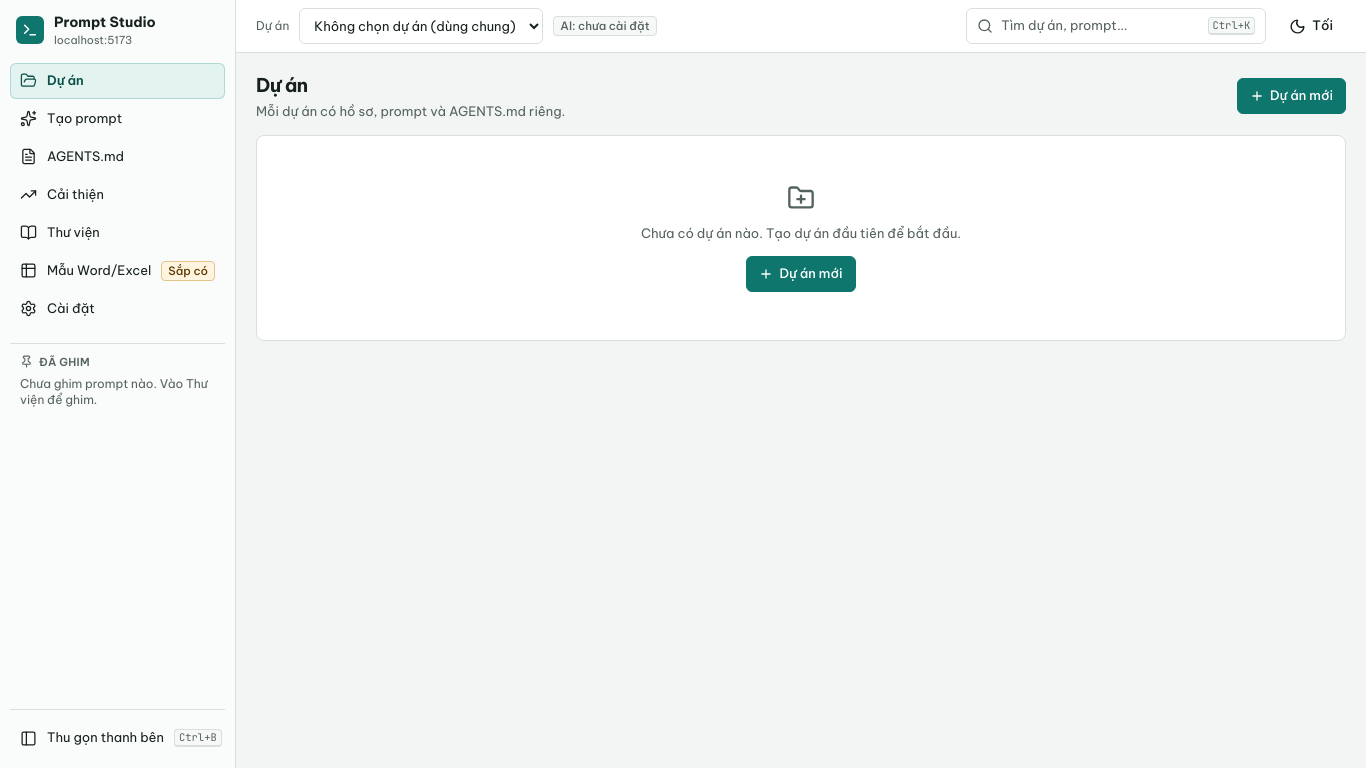
Tìm nhanh (Ctrl+K) › tìm prompt đã lưu có biến → Enter mở Điền nhanh; prompt không biến thì copy ngay
Later steps or results of the test are not shown.
Type keys "{Control>}k{/Control}"
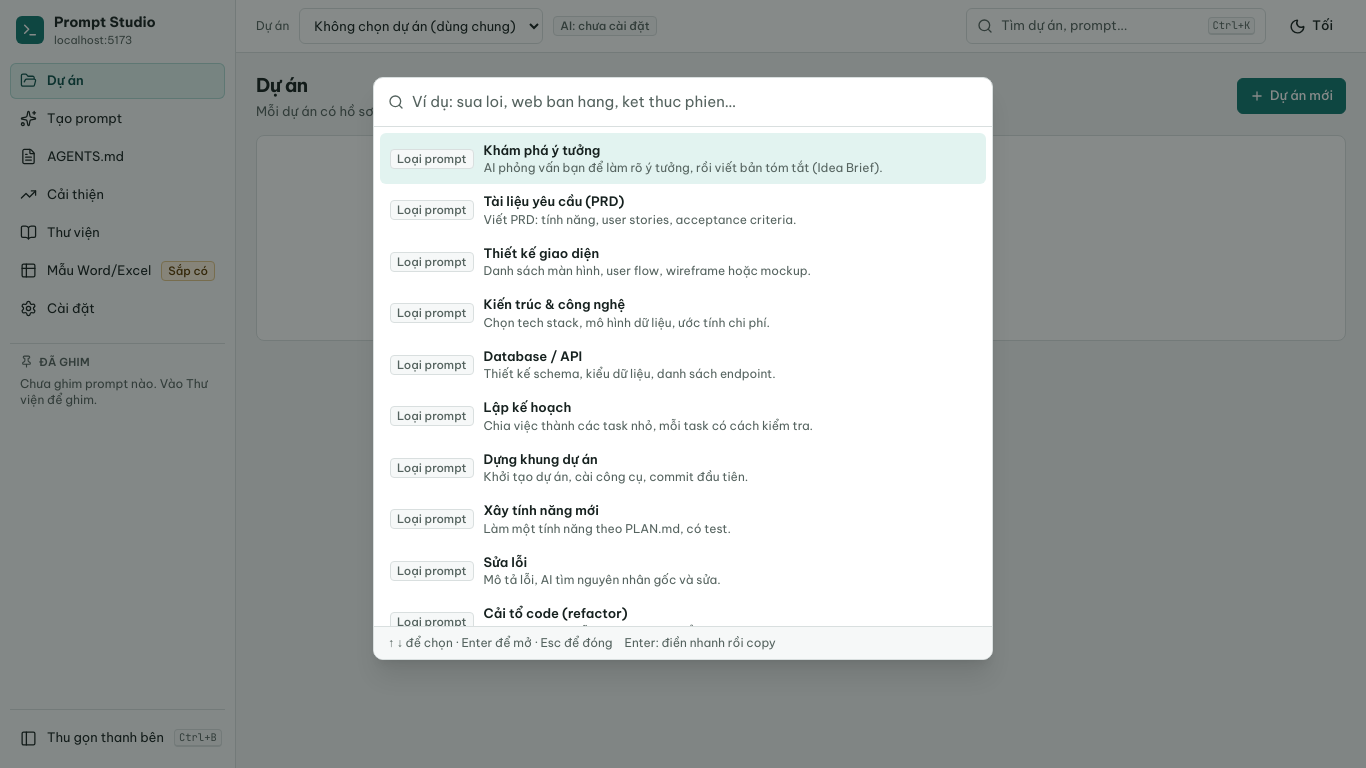
In the dropdown named "Từ khóa tìm kiếm": {"x": 695, "y": 102} [412, 78, 978, 126], type "bao loi nhanh"
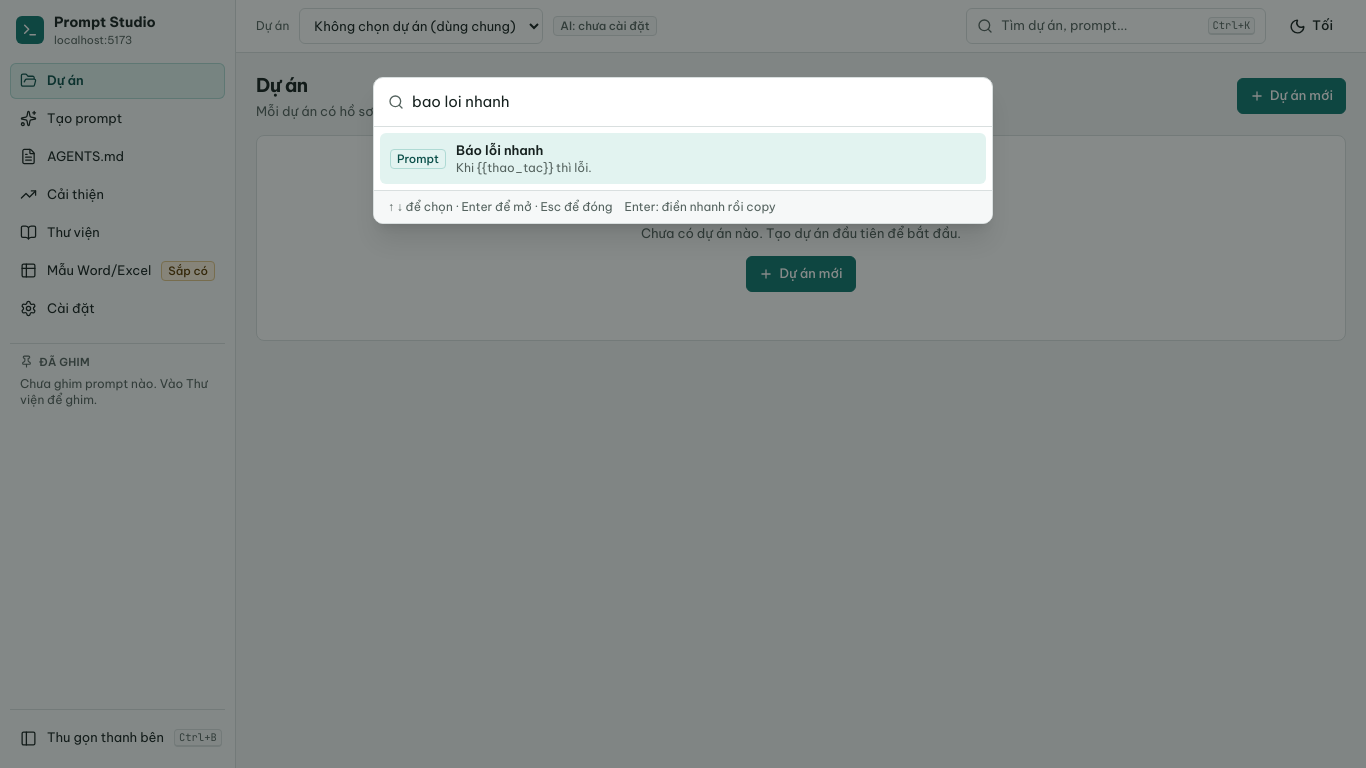
Press Enter
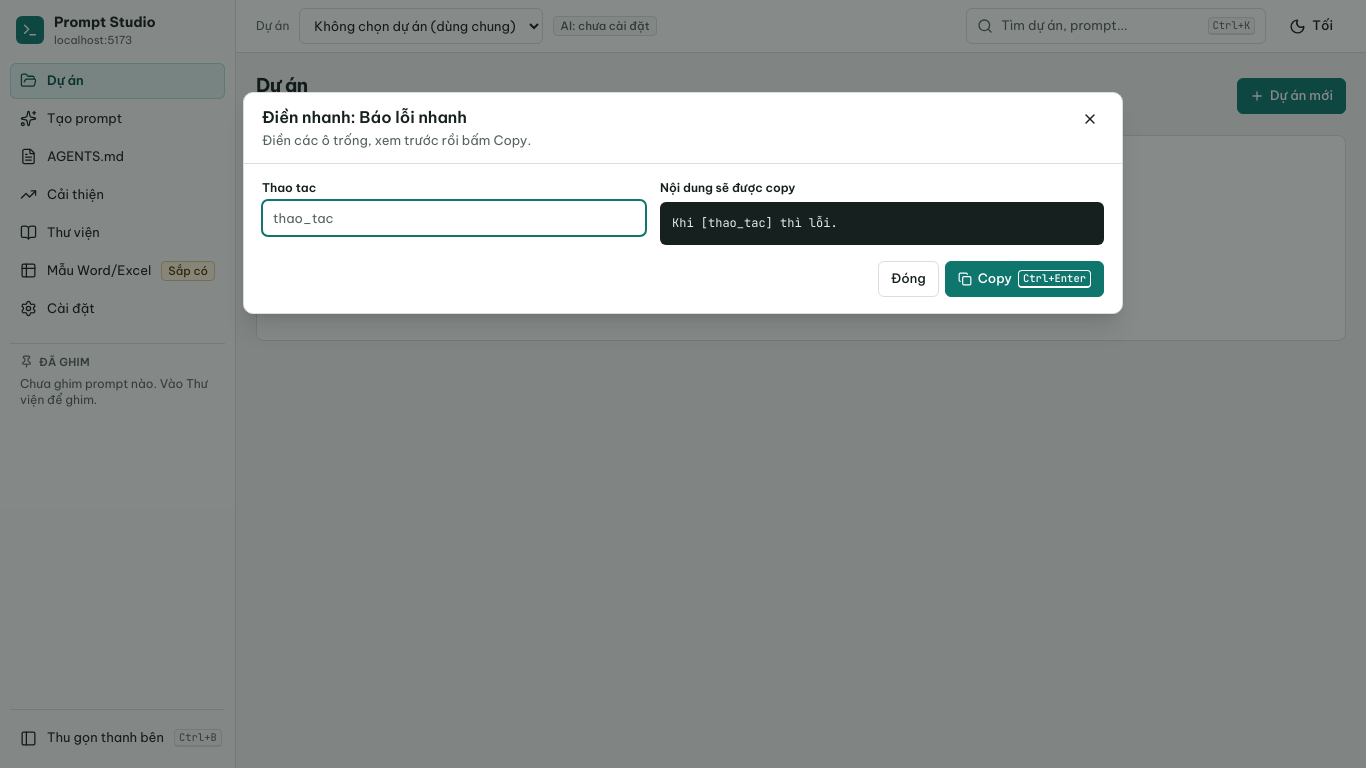
Expected: the dialog "Điền nhanh: Báo lỗi nhanh" is shown, [243, 92, 1123, 314]
